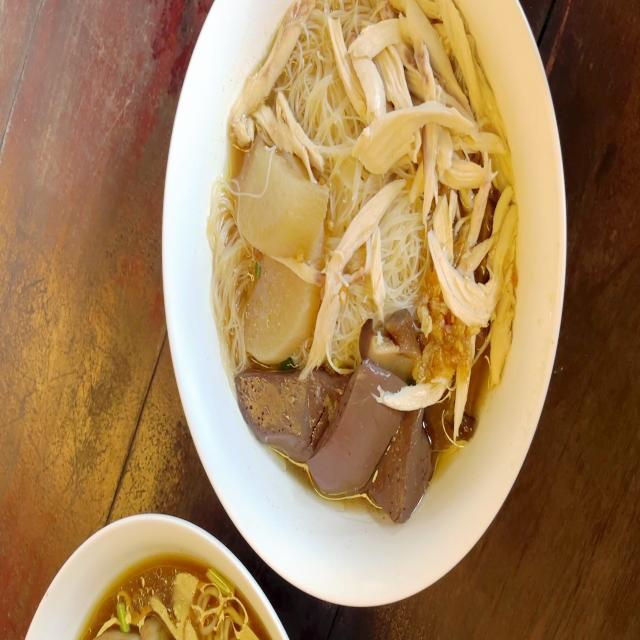boiled_chicken_blood_jelly: (233, 370, 342, 464), (317, 366, 387, 488), (386, 420, 429, 504)
chicken_shredded: (372, 0, 519, 336), (317, 176, 406, 366), (233, 0, 306, 140), (270, 86, 320, 175)
daikon_radish: (235, 253, 322, 373), (242, 142, 328, 263)
noodle: (222, 11, 522, 524), (95, 553, 253, 640)
